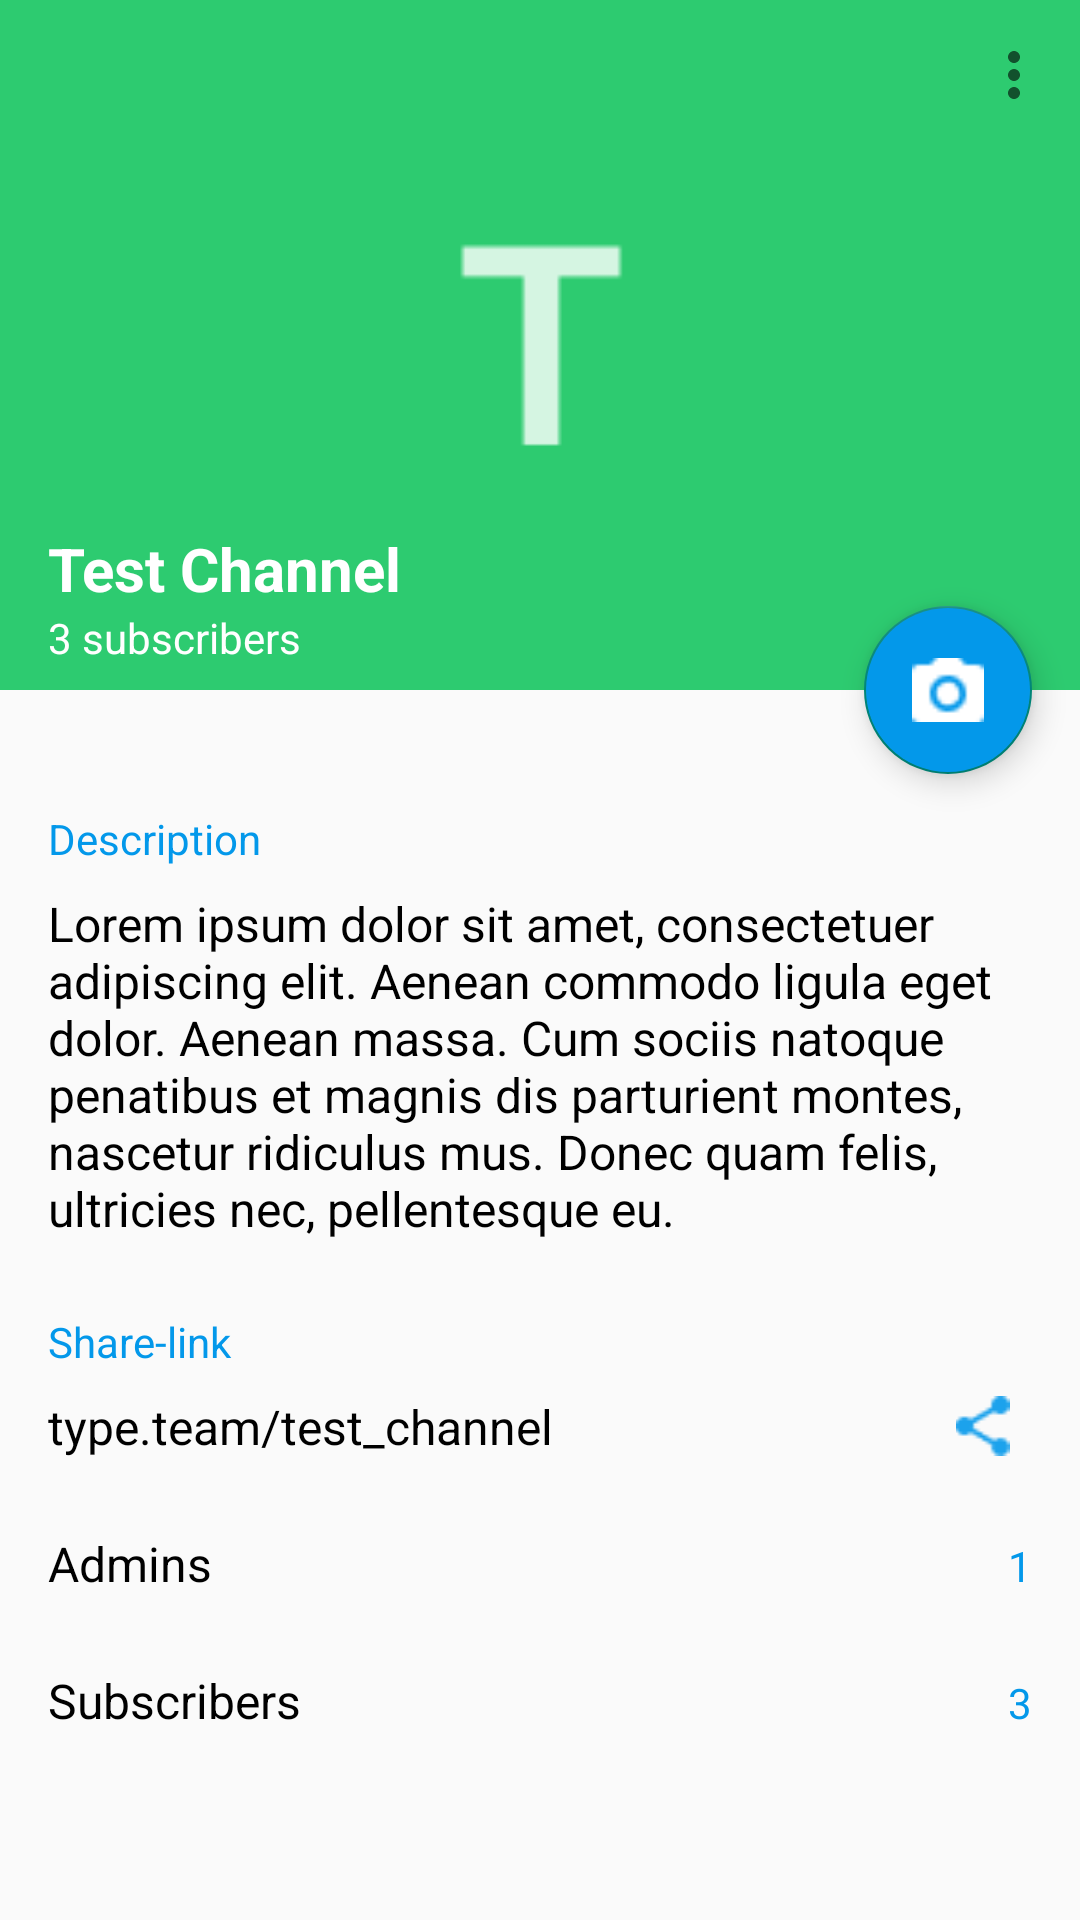

Screen size 1080x1920. Icon name, then its center in pixels as (x=x, y=y):
camera float: (x=948, y=690)
